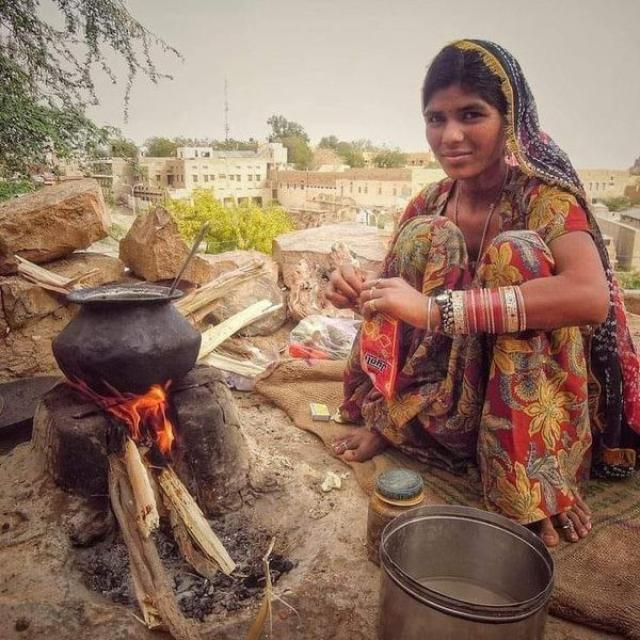fire: (137, 384, 175, 454), (102, 394, 140, 440)
